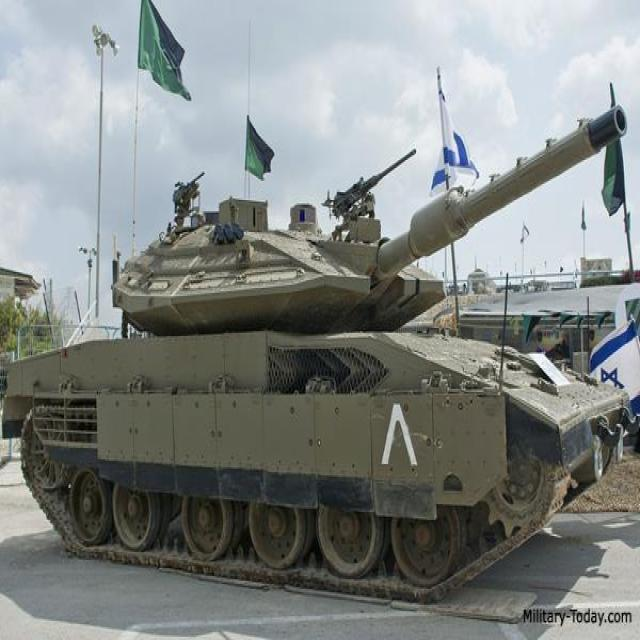MIL_MBT: (7, 195, 629, 594)
